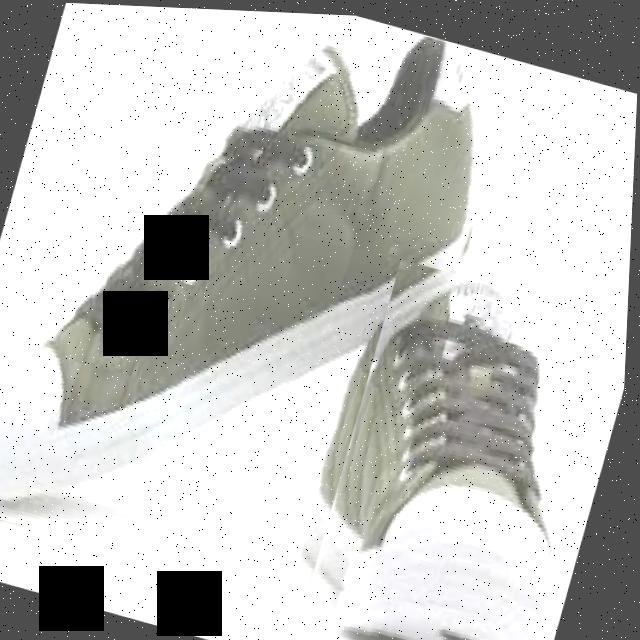shoe: (0, 0, 528, 625), (303, 251, 632, 640)
